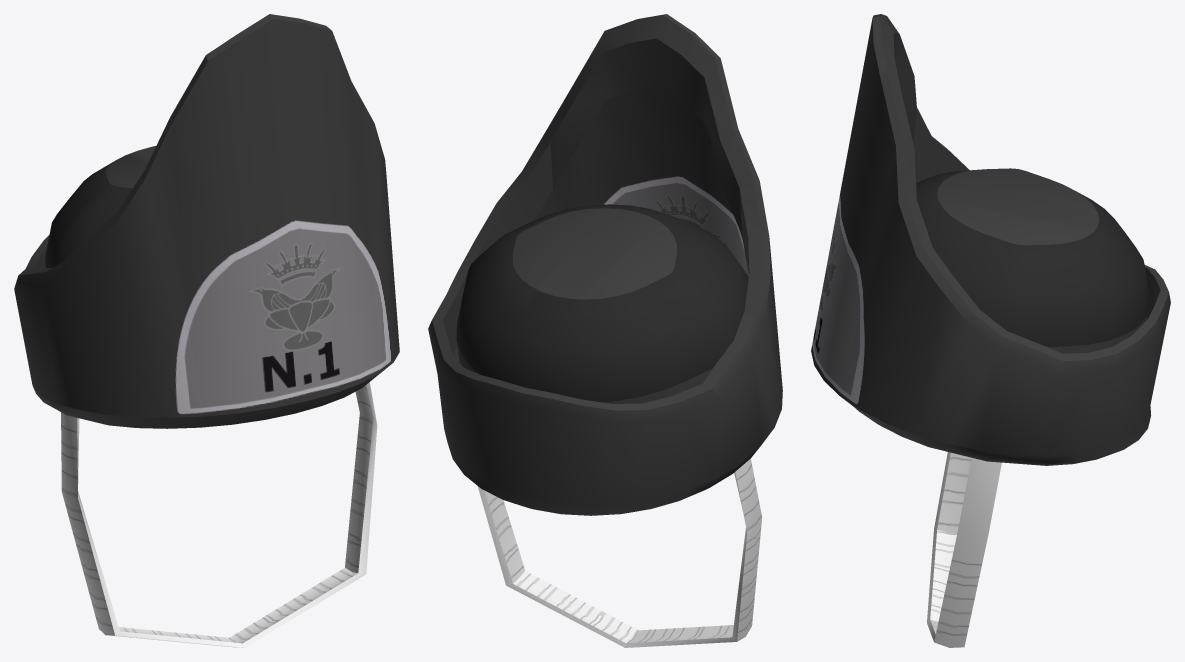
File: shotgunnerHat.obj
The picture shows the model from 3 angles, left to right: view 1: azimuth 30°, elevation 25°; view 2: azimuth 150°, elevation 25°; view 3: azimuth 270°, elevation 25°; orthographic projection. The views are drawn at different scales.
Visible parts, largest first — view 1: grenadierHat.001; view 2: grenadierHat.001; view 3: grenadierHat.001.
Boxes of the visible parts, x1=… form: grenadierHat.001: x1=14, y1=14, x2=399, y2=647; grenadierHat.001: x1=428, y1=14, x2=782, y2=647; grenadierHat.001: x1=811, y1=14, x2=1170, y2=647.
Bounding box in the file's own units: 0.6582 × 1.27 × 0.6798.
1 material, 1 textured.
